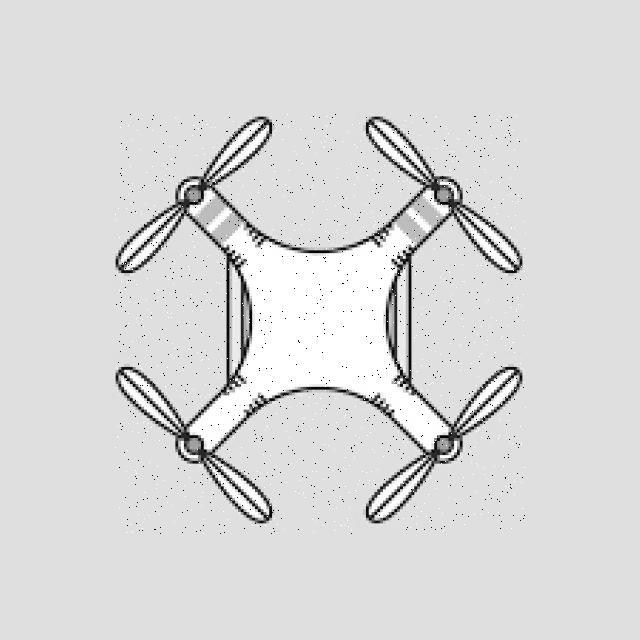drone: (117, 115, 527, 535)
